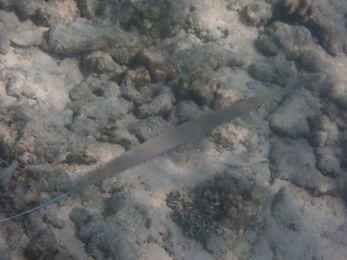Fistularia commersonii: (23, 50, 347, 213)
